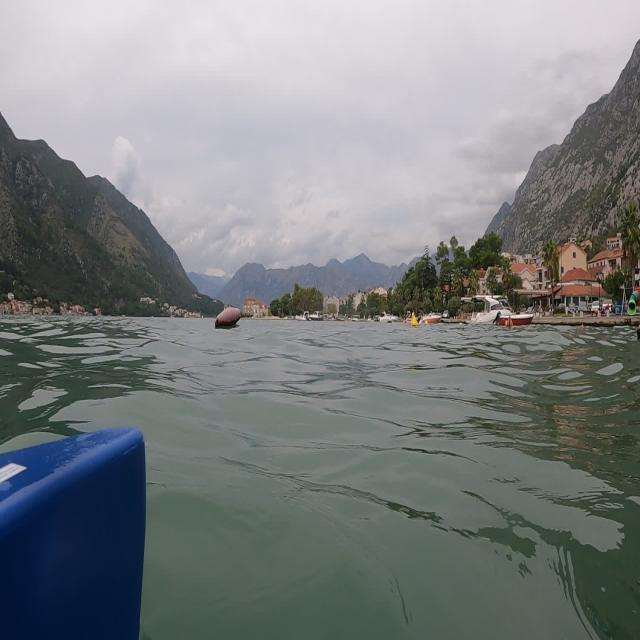boat: (463, 289, 538, 332)
buoy: (206, 300, 246, 332), (409, 307, 418, 330)
